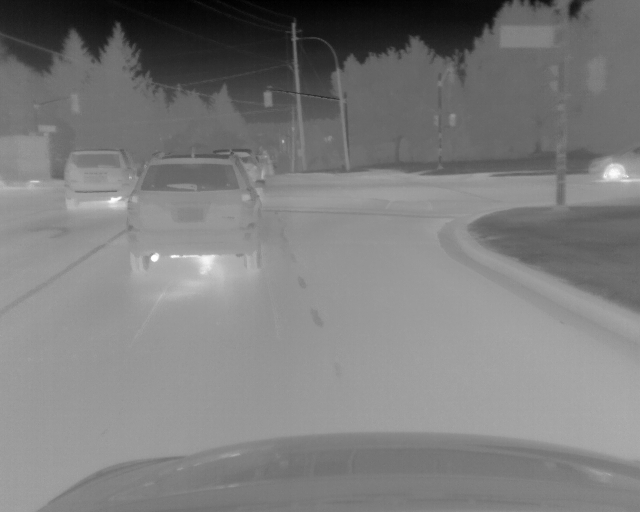car: (127, 153, 262, 273), (63, 148, 138, 208), (1, 133, 54, 189), (216, 149, 264, 198), (589, 144, 640, 183)
